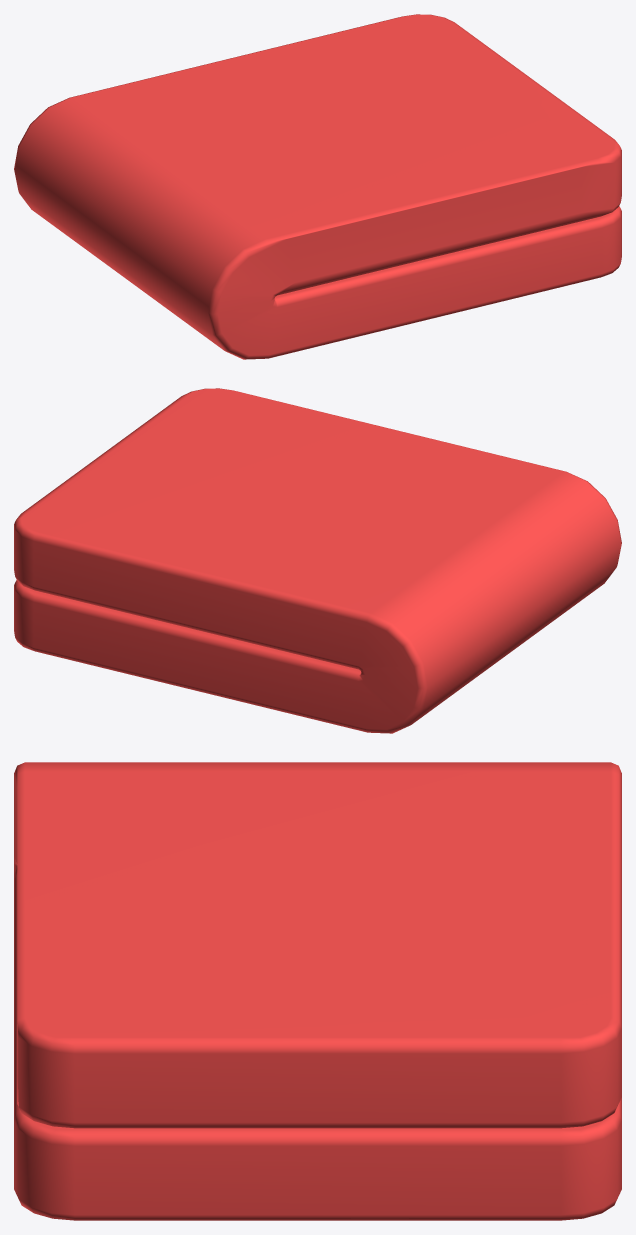
File: Public_15_Towel_2.glb
The picture shows the model from 3 angles, top to bottom: view 1: azimuth 30°, elevation 25°; view 2: azimuth 150°, elevation 25°; view 3: azimuth 270°, elevation 25°; orthographic projection. The views are drawn at different scales.
Parts seen in each view (by area): view 1: Public_15_Towel_2; view 2: Public_15_Towel_2; view 3: Public_15_Towel_2.
Boxes of the visible parts, bbox=[...] form: Public_15_Towel_2: bbox=[14, 14, 621, 359]; Public_15_Towel_2: bbox=[14, 388, 621, 733]; Public_15_Towel_2: bbox=[14, 762, 621, 1220].
Bounding box in the file's own units: 2.12 × 0.569 × 1.73.
1 material, 1 textured.
